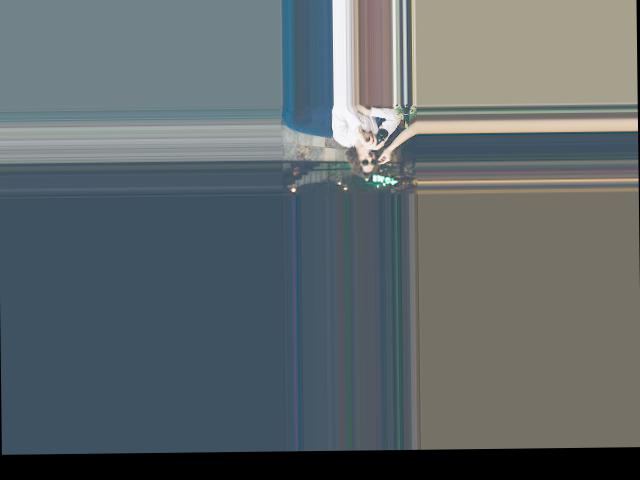beer: (369, 127, 389, 155)
